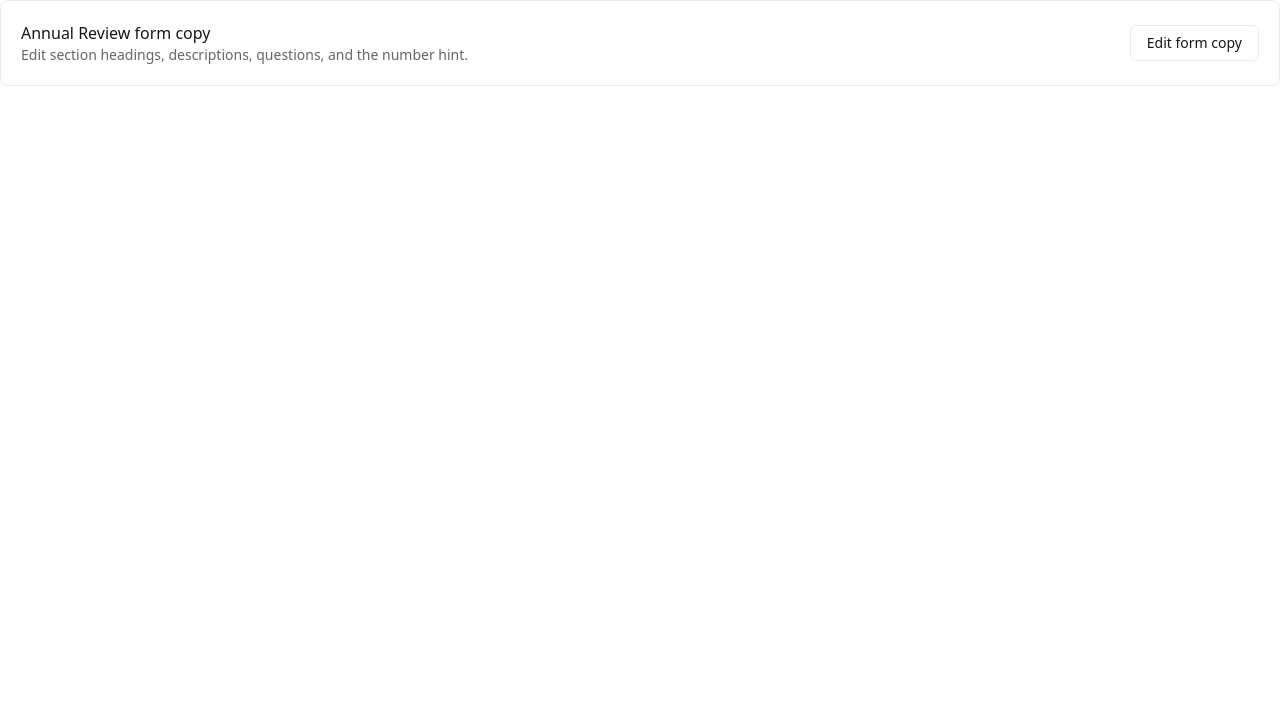
Scenario: AnnualReviewCopyEditor › lets an admin publish edited copy with the loaded version
Click the button "Edit form copy": (1194, 43) [1130,25,1259,61]
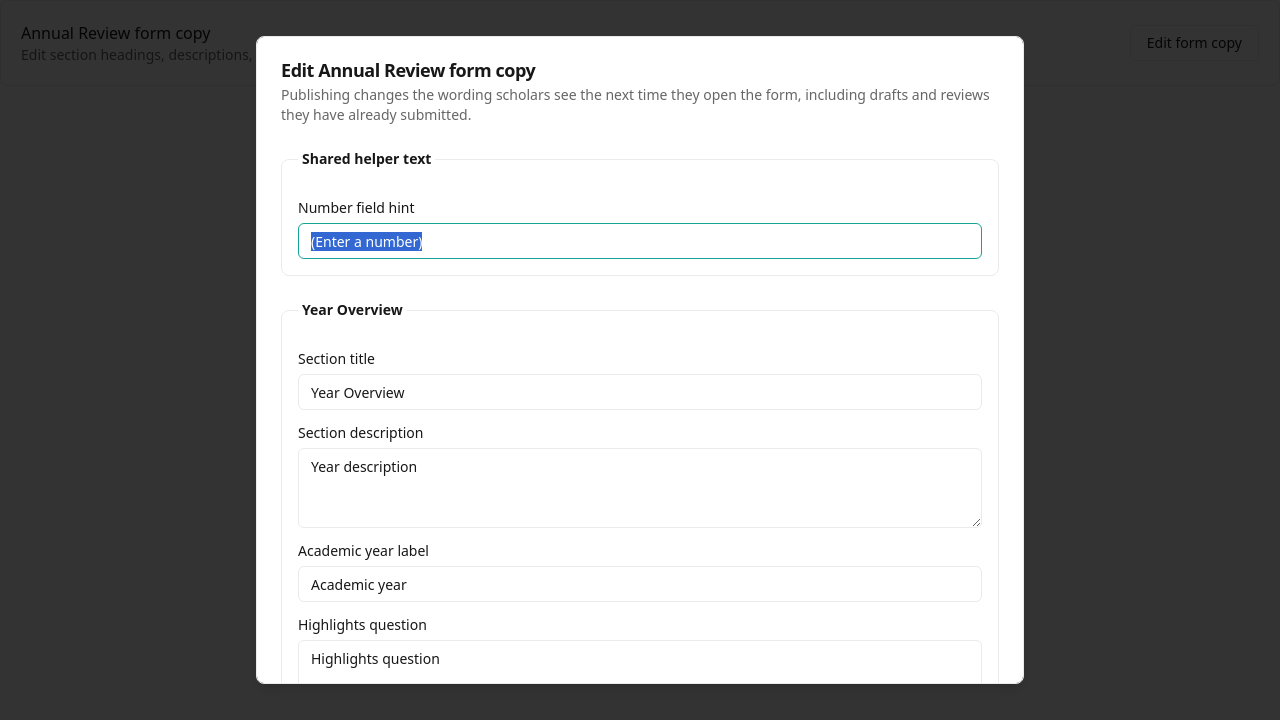
Replace the text in the field labelled "Section title" with "Your year": (640, 392) [298,374,982,410]
(page scrolled)
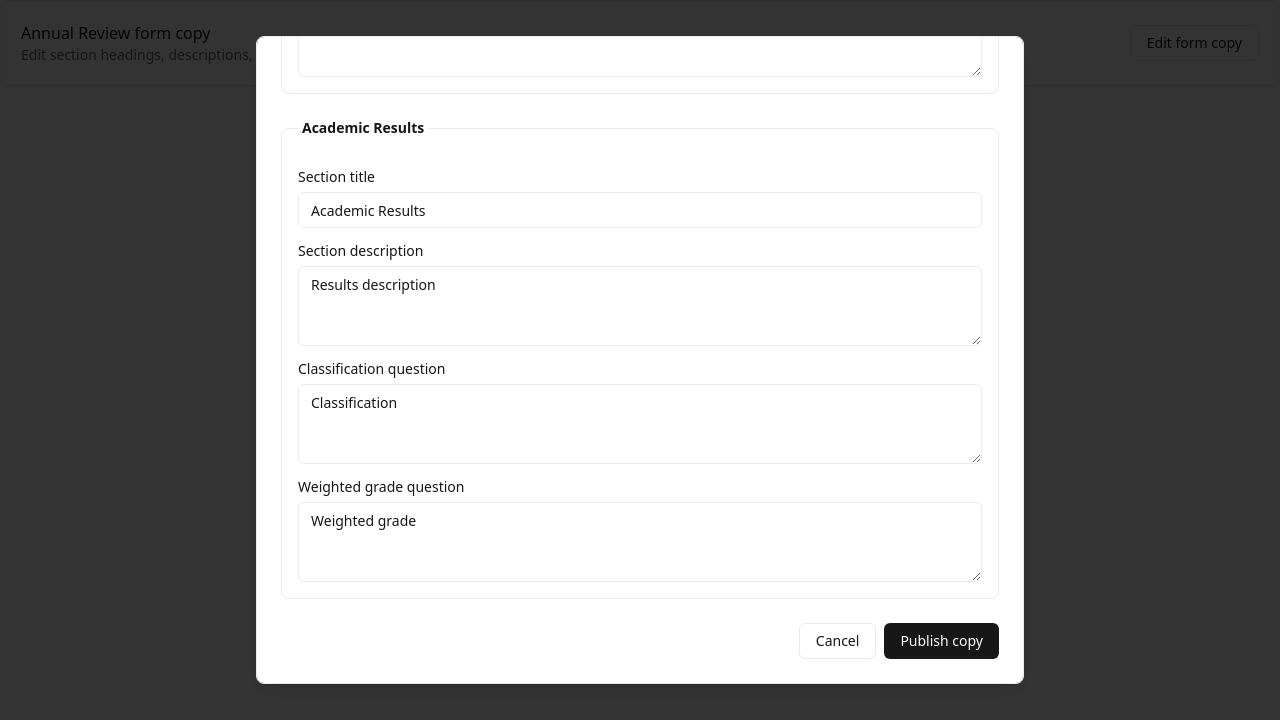
Click the button "Publish copy": (942, 641) [884,623,999,659]
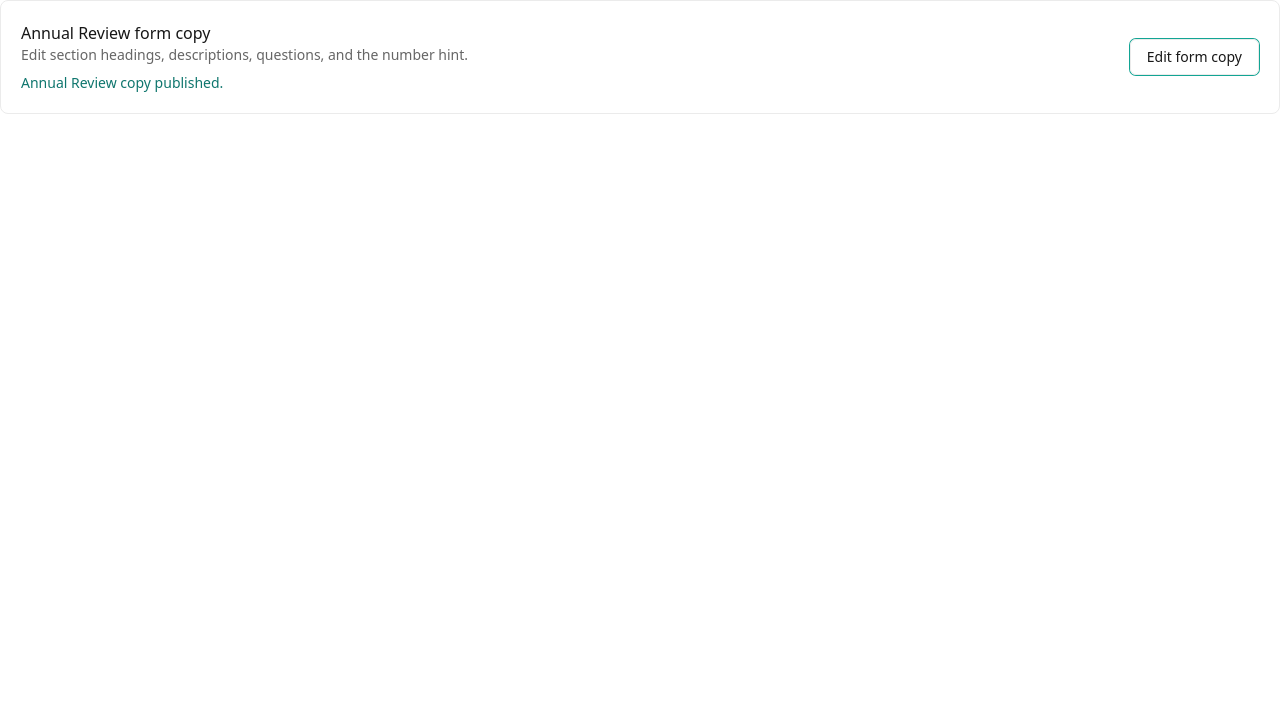
Result: the text "Annual Review copy published." is shown at [21,73,223,92]
